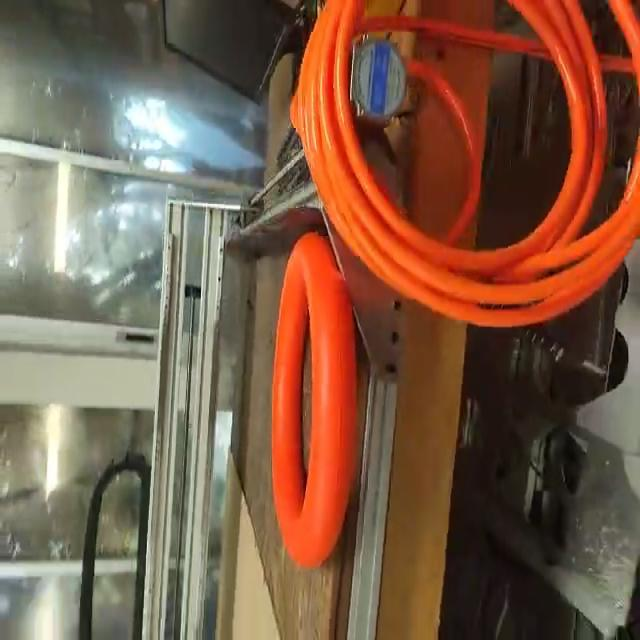note: (269, 232, 360, 568)
